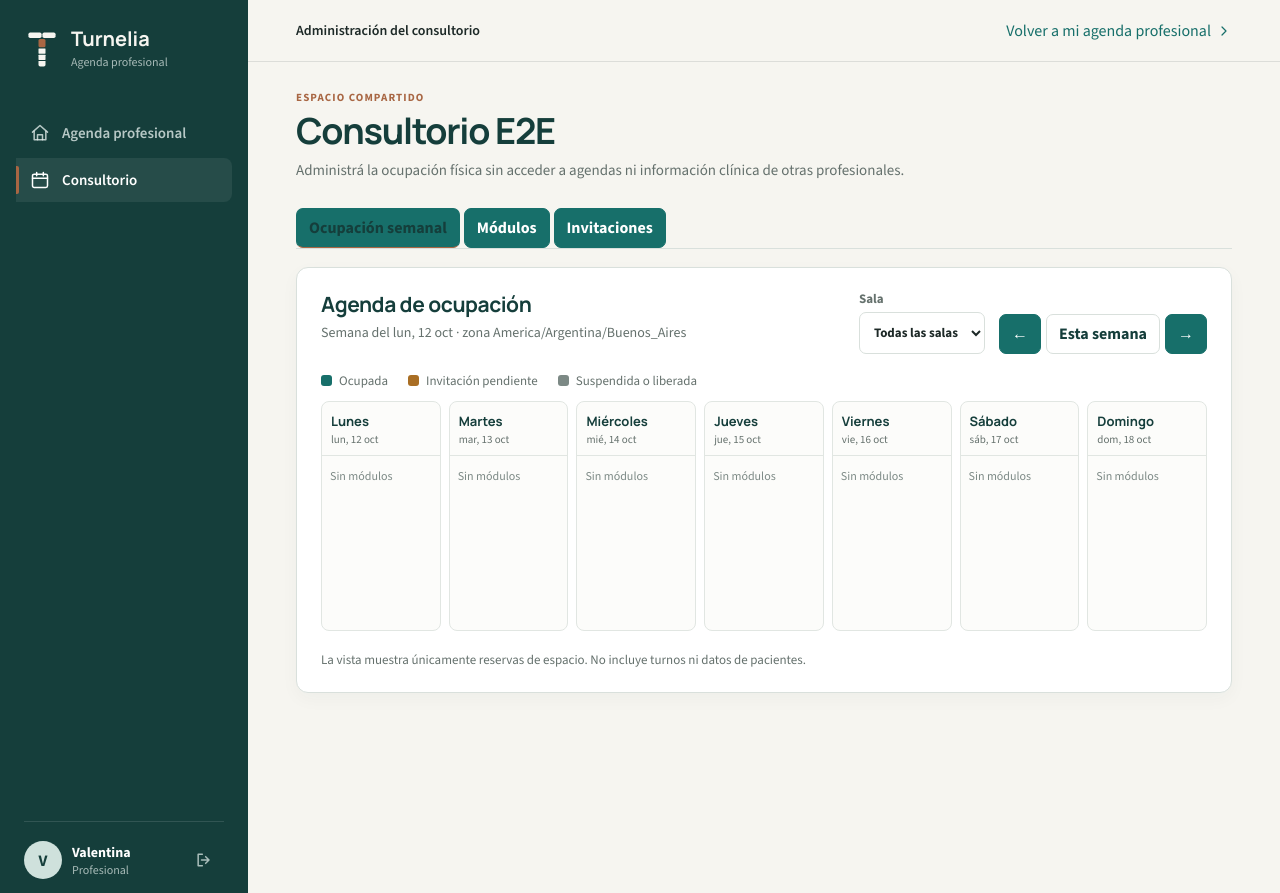
Test case: panel administrativo de Consultorio › prepara una invitación con módulo semanal sin mostrar enlaces ni tokens
This screenshot has width=1280, height=893.
Click the button "Invitaciones" at point(610, 228), box left=554, top=208, right=666, bottom=248
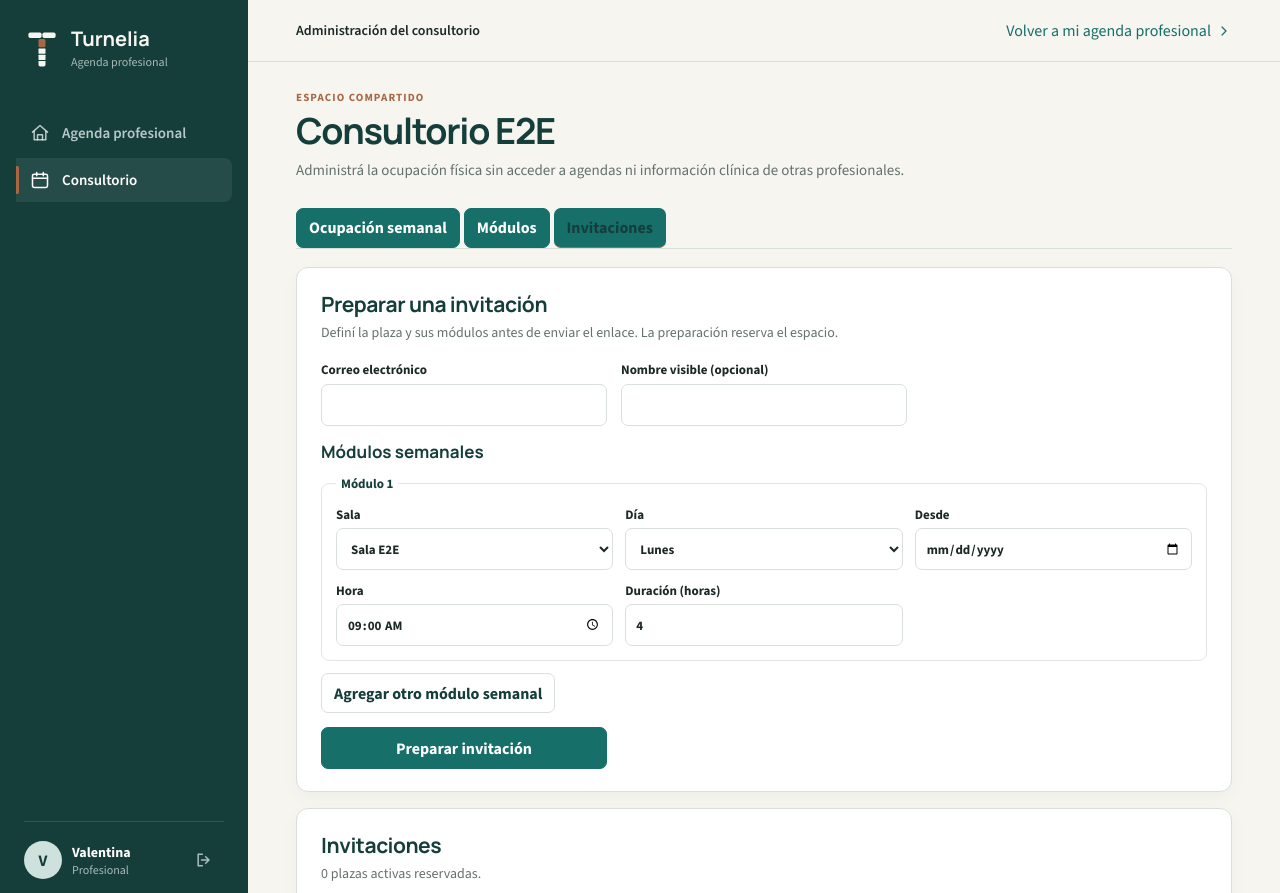
Type "profesional.sintetica@example.test" into the field labelled "Correo electrónico" at point(464, 405), box left=321, top=384, right=607, bottom=426
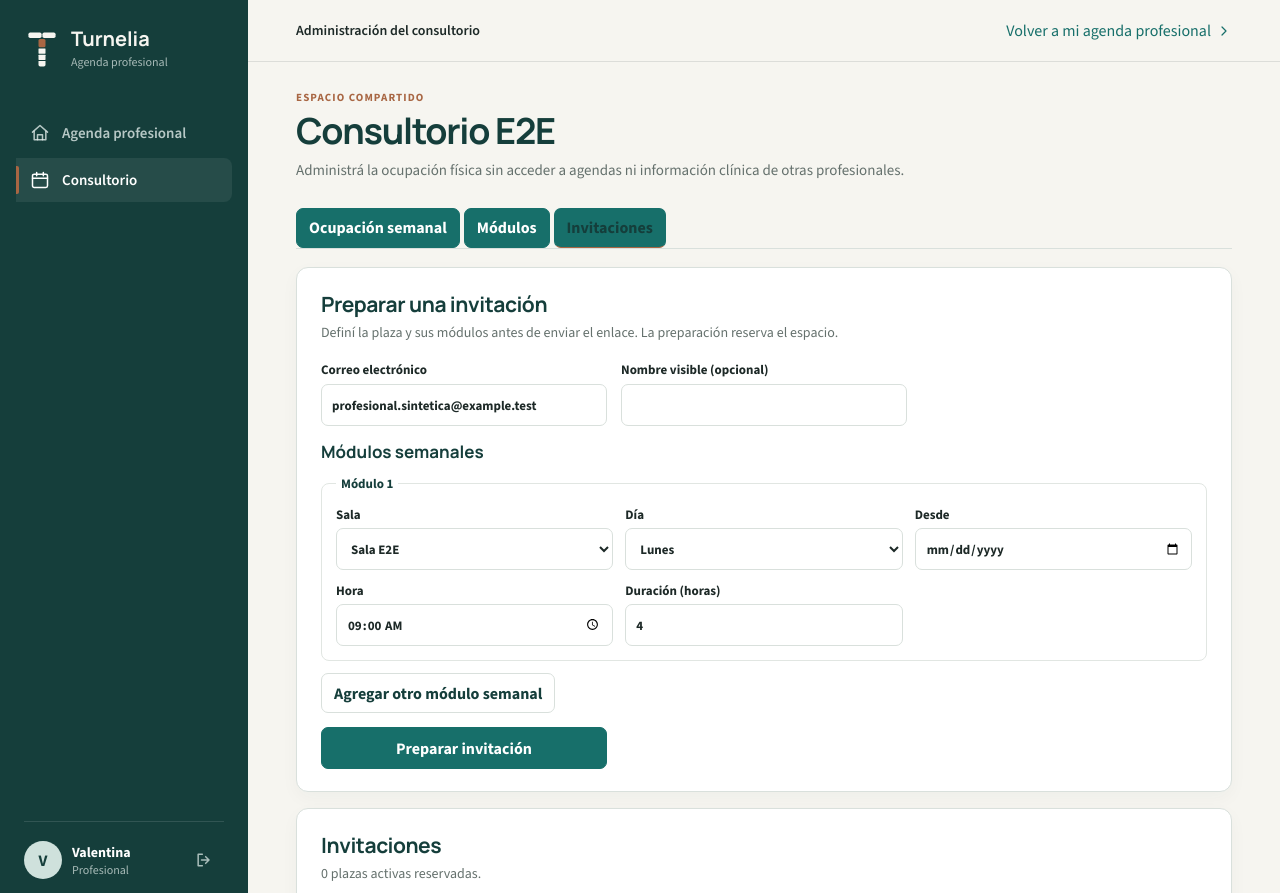
Type "2026-10-16" into the date field labelled "Desde" at point(1053, 549), box left=915, top=528, right=1192, bottom=570
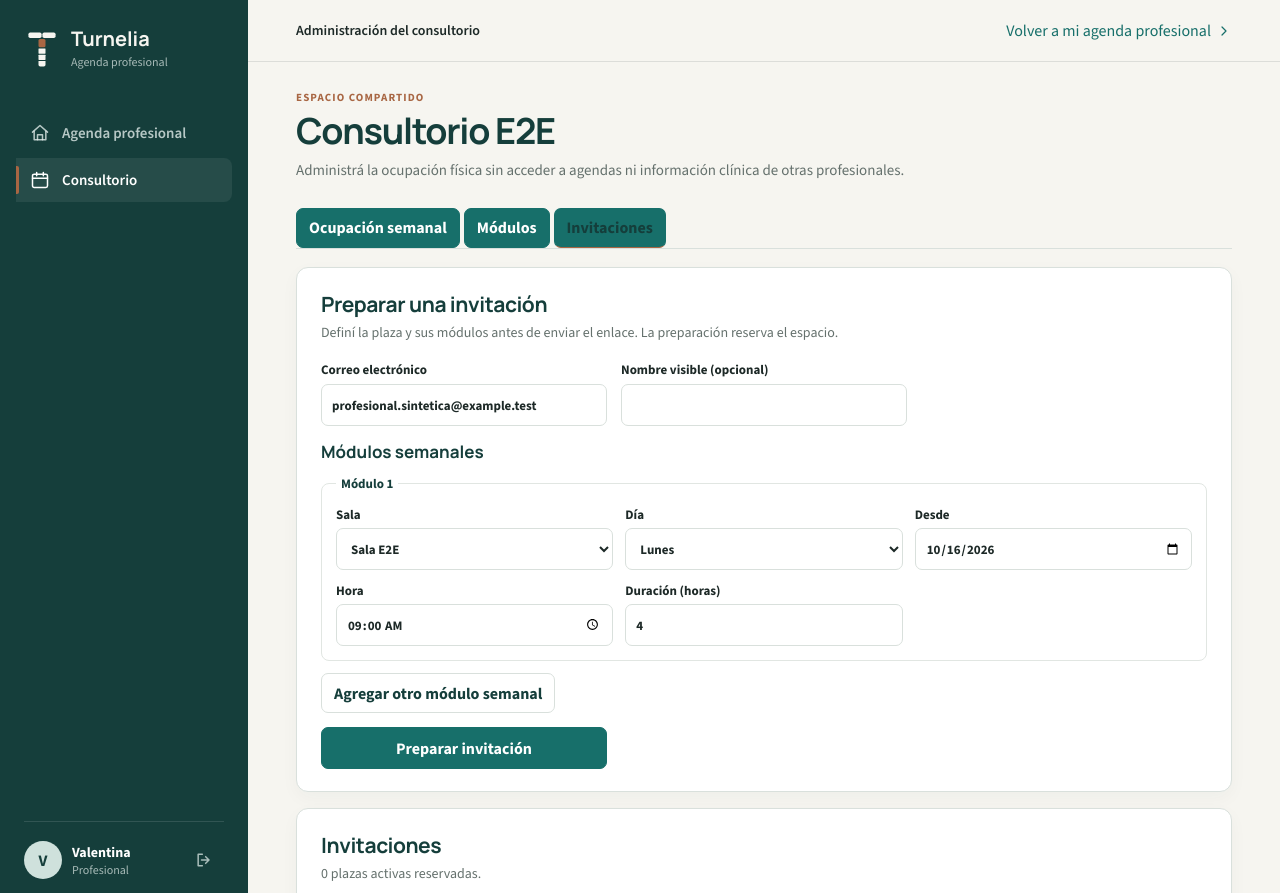
Click the button "Preparar invitación" at point(464, 748), box left=321, top=727, right=607, bottom=769
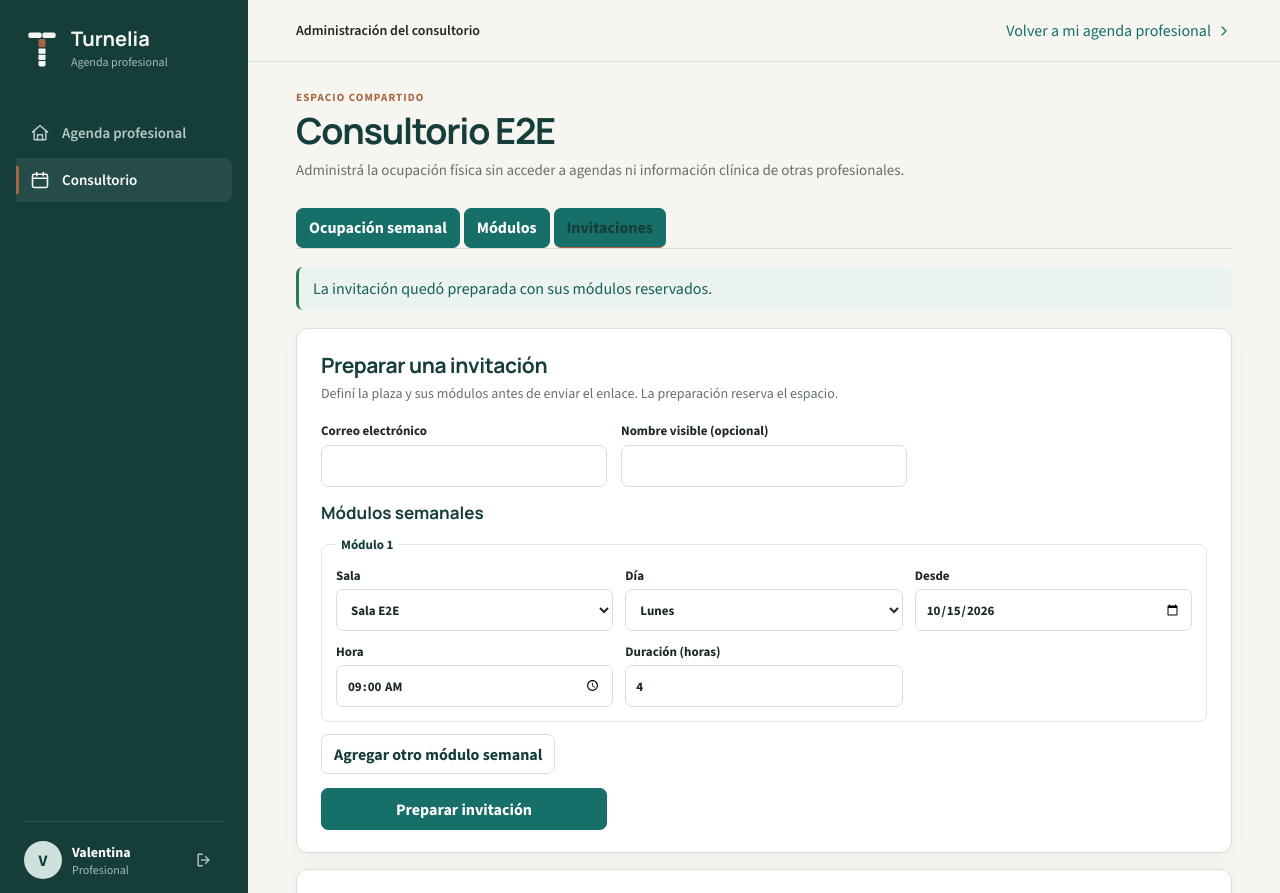
Now the message shows "La invitación quedó preparada", box left=313, top=278, right=712, bottom=299
